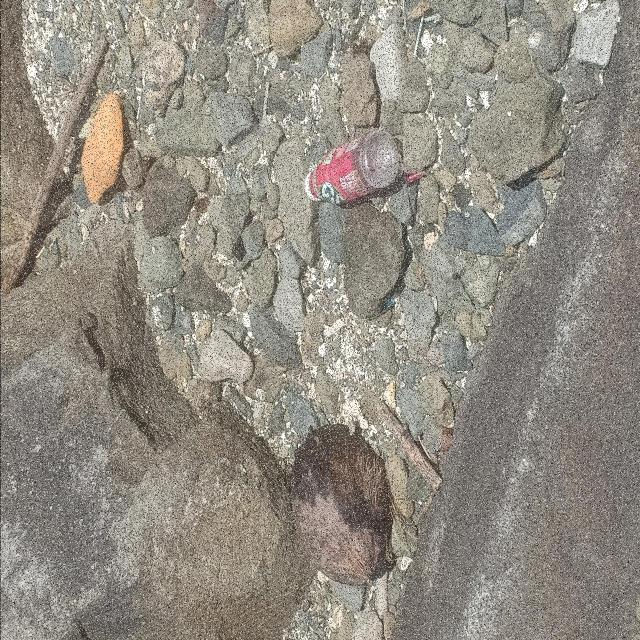plastic_waste: (306, 131, 400, 206)
